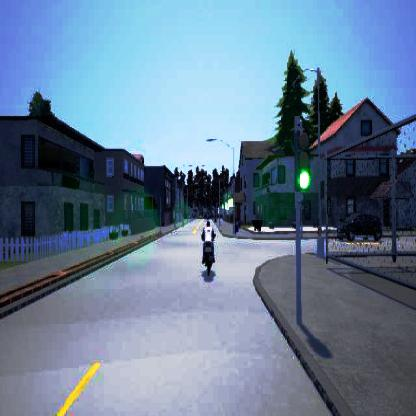motobike: (200, 218, 217, 276)
vehicle: (336, 212, 382, 241)
